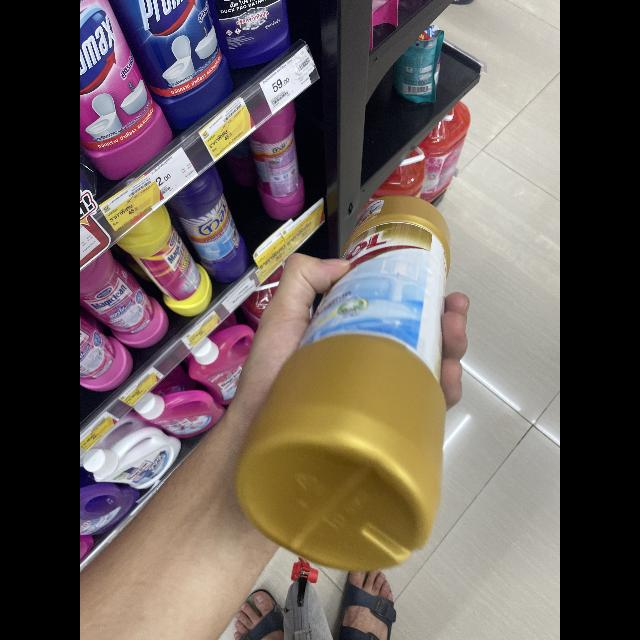chemical_plastic_bottle: (229, 182, 456, 576)
